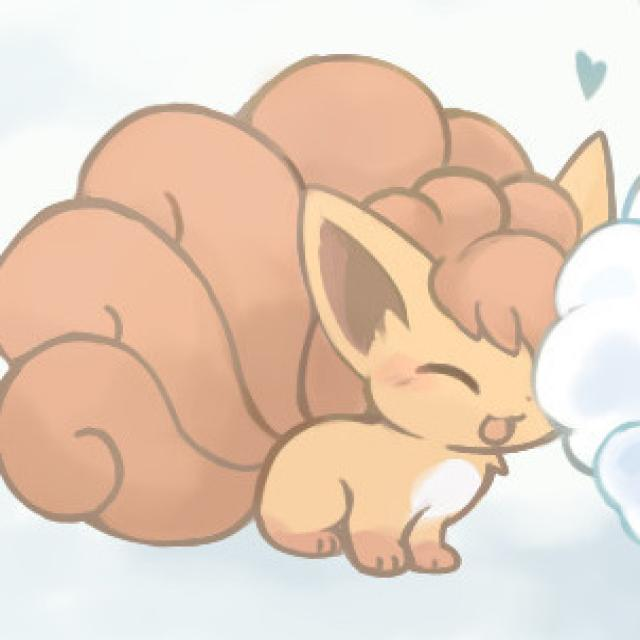Vulpix: (255, 138, 610, 565)
